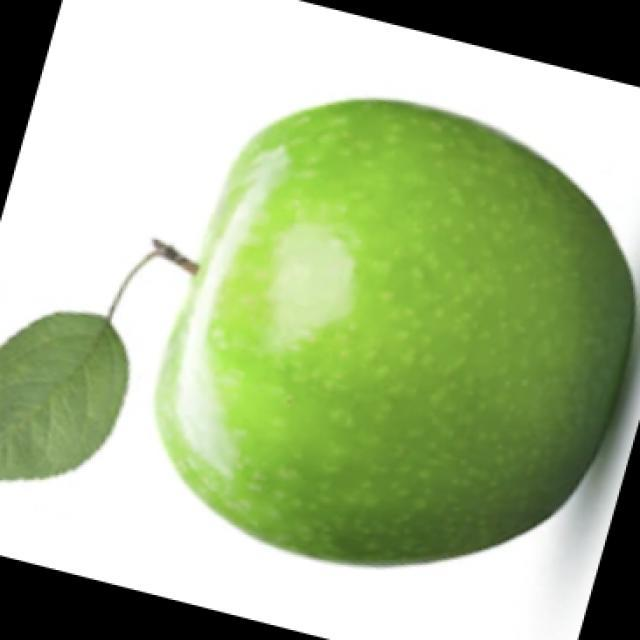Fresh Apple: (138, 85, 640, 580)
